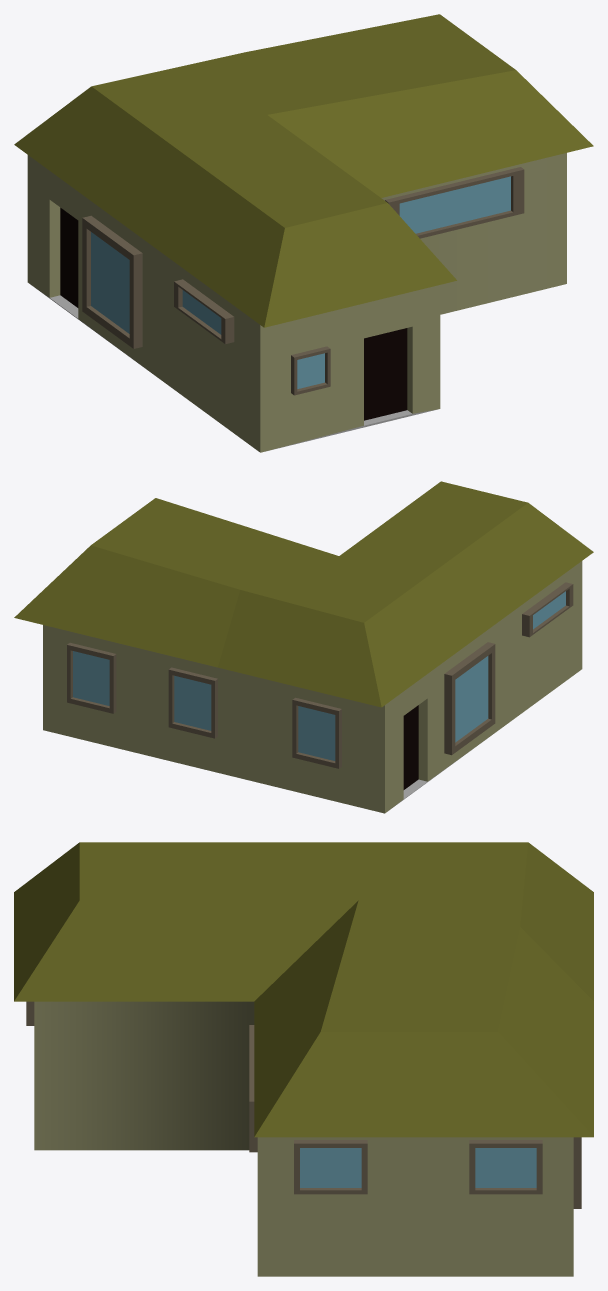
File: house.fbx
The picture shows the model from 3 angles, top to bottom: view 1: azimuth 30°, elevation 25°; view 2: azimuth 150°, elevation 25°; view 3: azimuth 270°, elevation 25°; orthographic projection. The views are drawn at different scales.
Visible parts, largest first — view 1: pCube12; view 2: pCube12; view 3: pCube12.
Part boxes in pixels (bbox=[...]): pCube12: bbox=[14, 14, 593, 452]; pCube12: bbox=[14, 481, 593, 813]; pCube12: bbox=[14, 842, 593, 1276].
Bounding box in the file's own units: 12.16 × 5.27 × 11.96.
